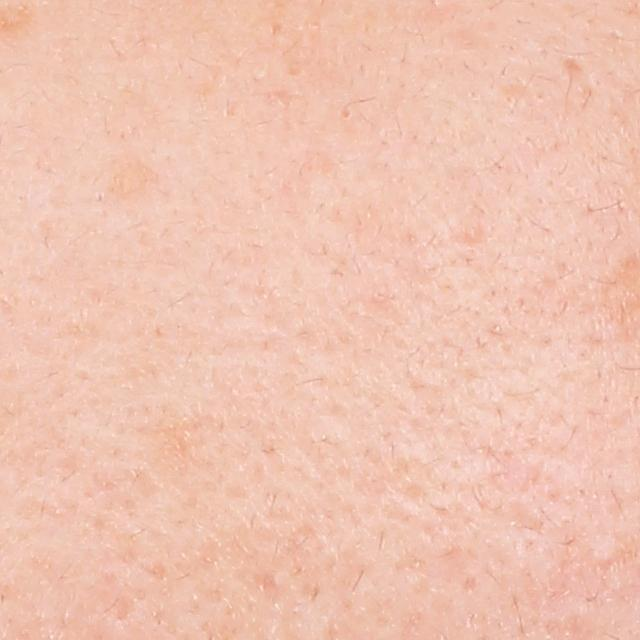atrophic_scar: (559, 56, 589, 77)
comedo: (334, 101, 352, 122)
